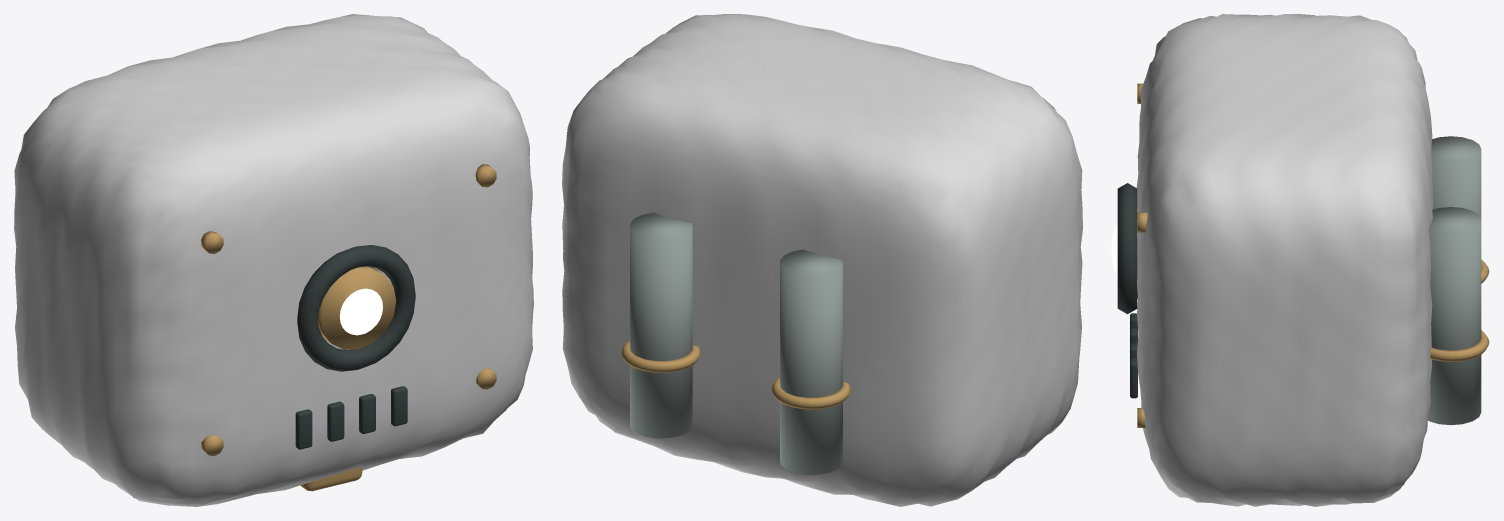
File: brute-torso-0.glb
3 renders of one model, left to right at view 1: azimuth 30°, elevation 25°; view 2: azimuth 150°, elevation 25°; view 3: azimuth 270°, elevation 25°, orthographic. The views are drawn at different scales.
Parts seen in each view (by area): view 1: torso_clay, torso_mechanism, torso_brass, torso_lens; view 2: torso_clay, torso_steel, torso_brass; view 3: torso_clay, torso_steel, torso_mechanism, torso_brass.
Boxes of the visible parts, box(x1,y1,x2,y2) form: torso_clay: box(14, 14, 533, 506); torso_mechanism: box(295, 245, 415, 449); torso_brass: box(201, 164, 496, 491); torso_lens: box(339, 288, 382, 335); torso_clay: box(562, 14, 1082, 506); torso_steel: box(630, 212, 842, 474); torso_brass: box(621, 340, 851, 409); torso_clay: box(1136, 14, 1433, 506); torso_steel: box(1427, 136, 1481, 425); torso_mechanism: box(1117, 183, 1137, 398); torso_brass: box(1137, 83, 1489, 427).
Size of the model in its own units: 1.49 by 1.23 by 1.17.
